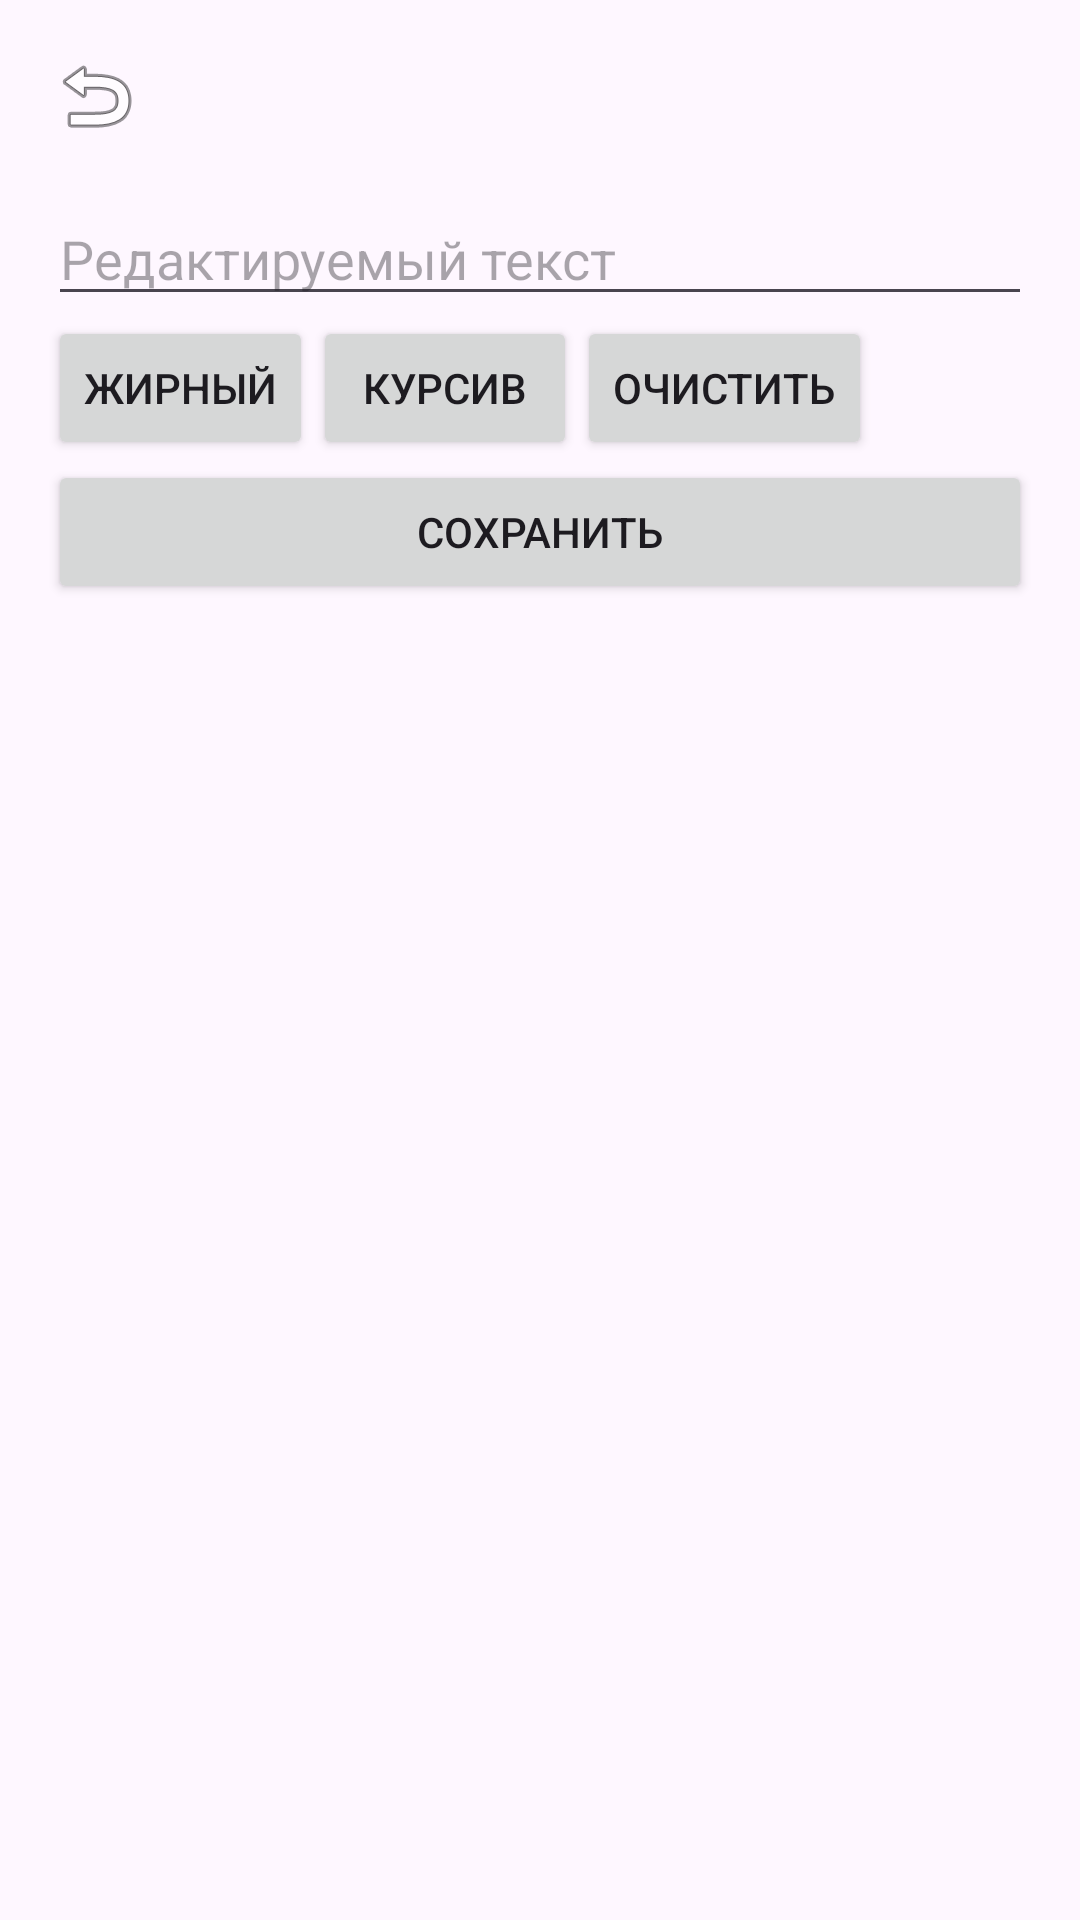

Named icons in this screenshot (1080w x 1920h) and their bounding boxes, (x1, y1, x2, y2):
Назад: (63, 65, 132, 128)
